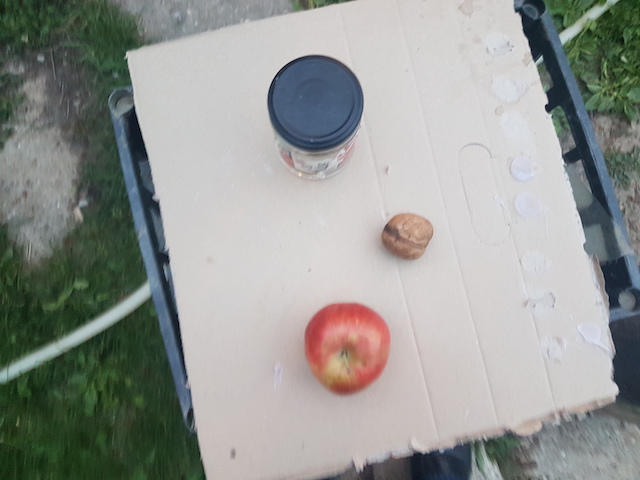apple: (305, 296, 392, 396)
nut: (381, 212, 435, 259)
recipient: (264, 53, 370, 152)
